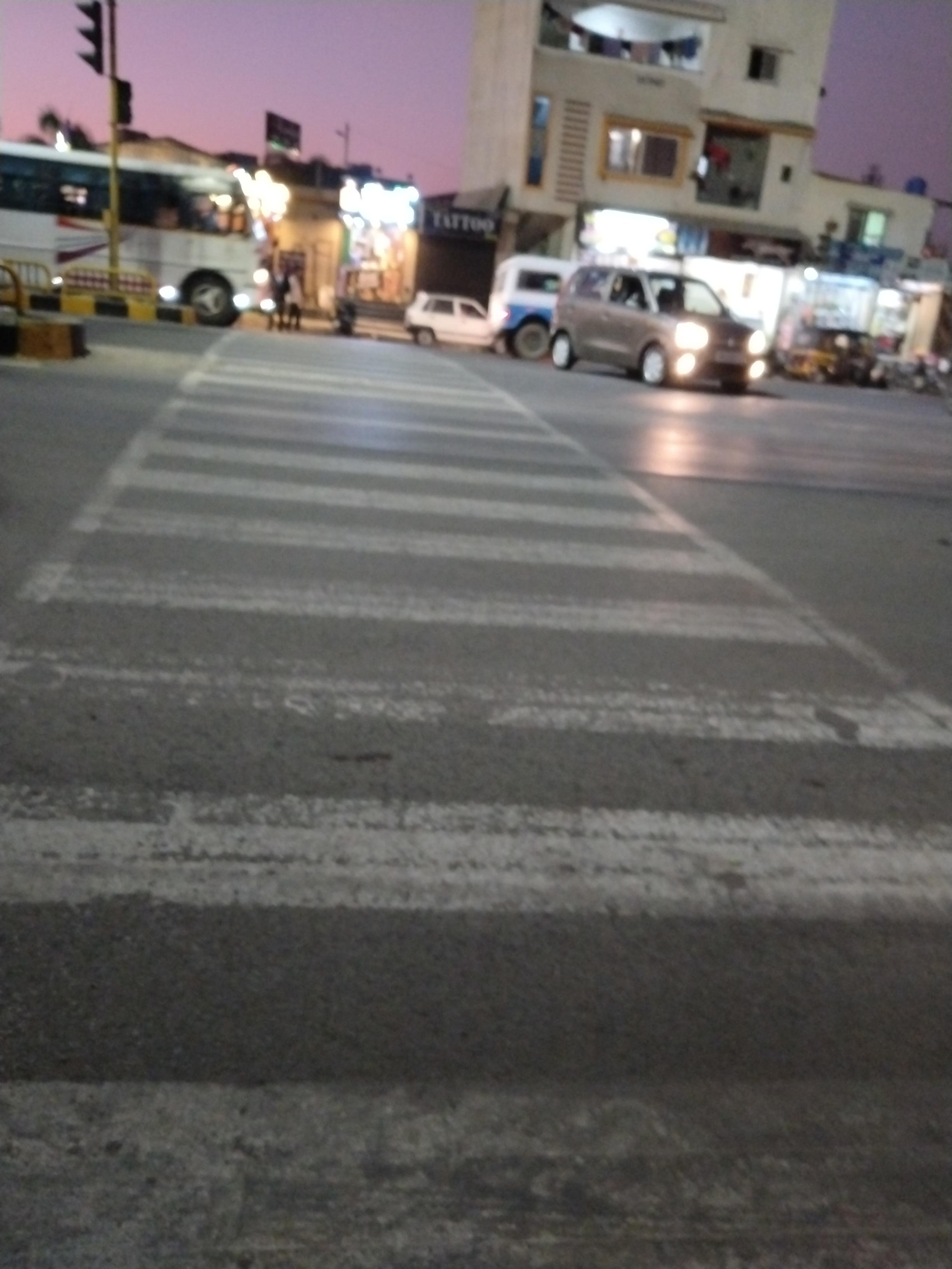crosswalk: (0, 325, 949, 1264)
